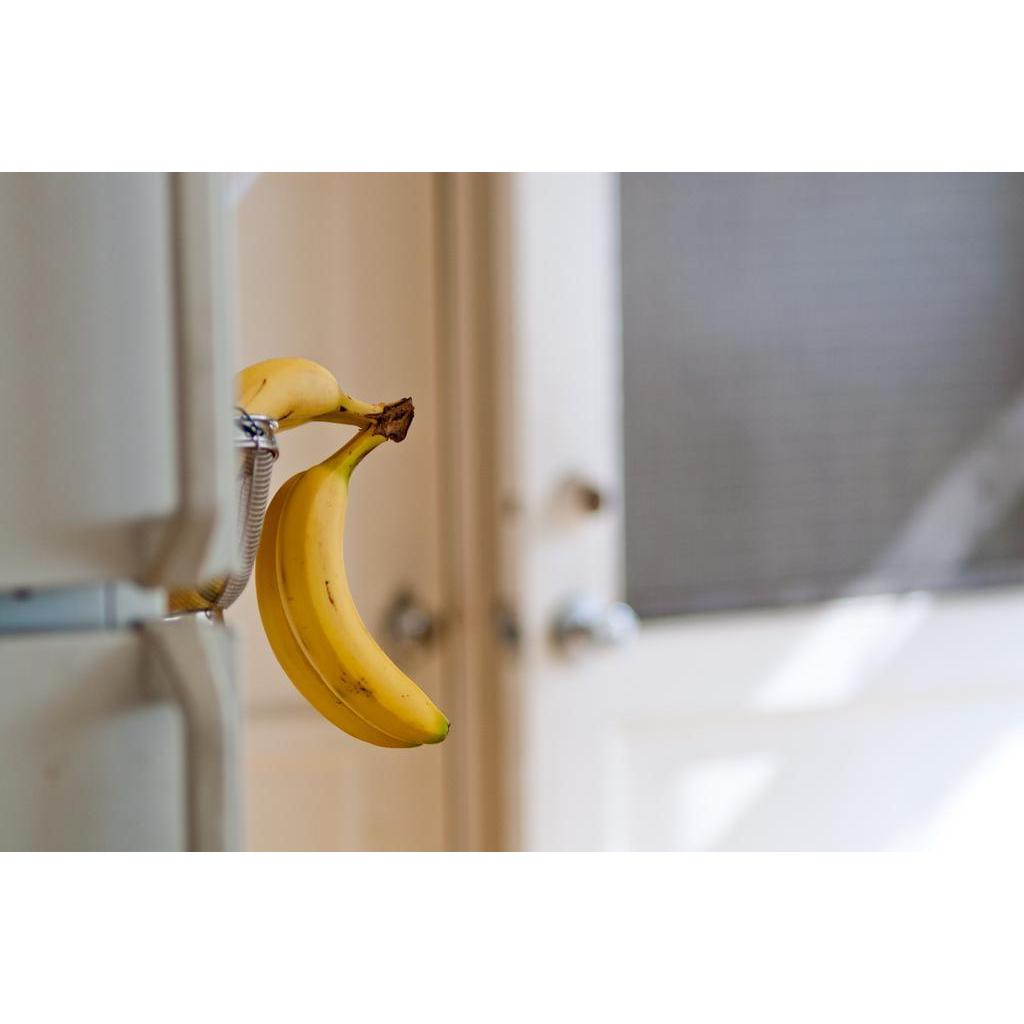banana: (255, 398, 451, 750)
